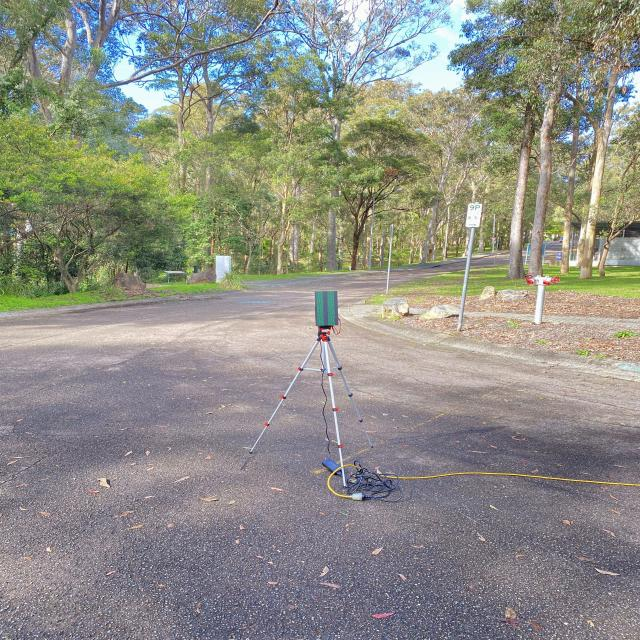matrix: (308, 284, 346, 333)
